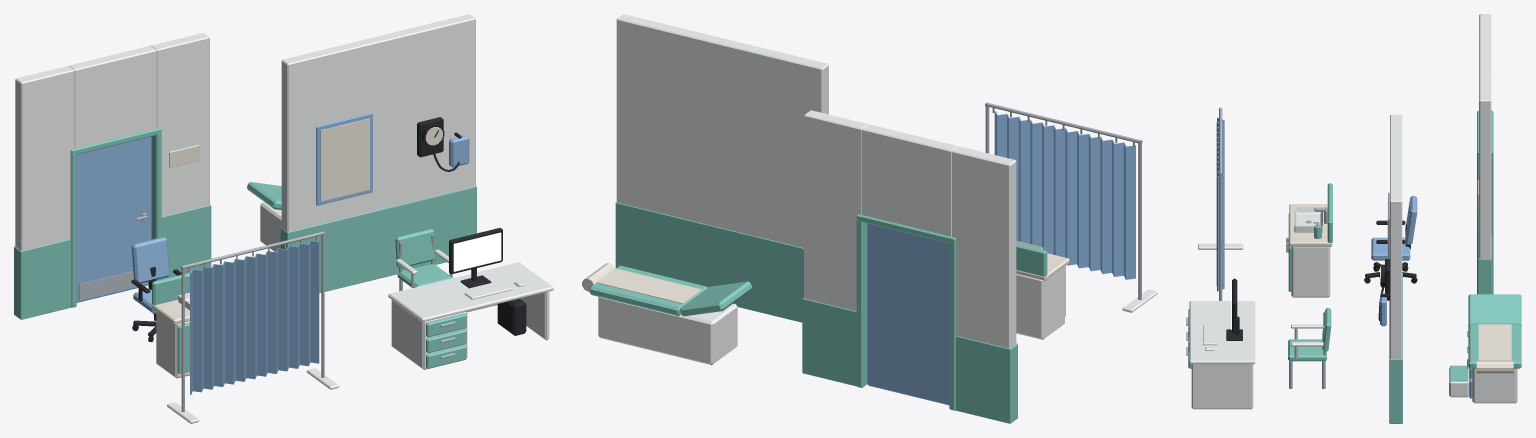
File: doctors-office-set.glb
The picture shows the model from 3 angles, left to right: view 1: azimuth 30°, elevation 25°; view 2: azimuth 150°, elevation 25°; view 3: azimuth 270°, elevation 25°; orthographic projection. The views are drawn at different scales.
Visible parts, largest first — view 1: ChartWall_Wall, Curtain, DoorWall_Left, Door, ChartWall_Wainscot, DoorWall_Right, DoorWall_Lintel, Desk_Top, DoorWall_Wainscot_-1, Chart_Paper, DoorWall_Wainscot_1, Desk_Pedestal (+26 smaller); view 2: ChartWall_Wall, Curtain, Door, ChartWall_Wainscot, DoorWall_Left, DoorWall_Right, DoorWall_Lintel, Exam_Base, DoorWall_Wainscot_-1, DoorWall_Wainscot_1, Sink_Body, DoorFrame_Jamb_1 (+8 smaller); view 3: Desk_Top, ChartWall_Wall, Desk_SidePanel, DoorWall_Right, Sink_Body, Exam_HeadRest, Exam_Base, Exam_Paper, ChartWall_Wainscot, Curtain, Exam_Pad, Sink_Counter (+14 smaller).
Boxes of the visible parts, x1,y1,x2,y2 form: ChartWall_Wall: [281, 14, 475, 231]; Curtain: [188, 236, 319, 394]; DoorWall_Left: [15, 65, 74, 250]; Door: [76, 136, 151, 302]; ChartWall_Wainscot: [280, 186, 476, 293]; DoorWall_Right: [151, 33, 209, 216]; DoorWall_Lintel: [69, 45, 156, 148]; Desk_Top: [388, 262, 553, 322]; DoorWall_Wainscot_-1: [14, 239, 71, 319]; Chart_Paper: [320, 118, 369, 201]; DoorWall_Wainscot_1: [161, 204, 211, 279]; Desk_Pedestal: [391, 300, 467, 369]; ChartWall_Wall: [616, 14, 828, 247]; Curtain: [992, 108, 1135, 279]; Door: [867, 223, 949, 405]; ChartWall_Wainscot: [615, 202, 803, 322]; DoorWall_Left: [952, 146, 1016, 348]; DoorWall_Right: [804, 110, 867, 311]; DoorWall_Lintel: [862, 124, 957, 236]; Exam_Base: [598, 296, 737, 365]; DoorWall_Wainscot_-1: [955, 335, 1017, 423]; DoorWall_Wainscot_1: [802, 298, 866, 387]; Sink_Body: [1016, 266, 1064, 339]; DoorFrame_Jamb_1: [856, 220, 867, 387]; Desk_Top: [1189, 301, 1255, 364]; ChartWall_Wall: [1390, 114, 1402, 359]; Desk_SidePanel: [1191, 364, 1253, 409]; DoorWall_Right: [1479, 76, 1491, 258]; Sink_Body: [1291, 247, 1330, 297]; Exam_HeadRest: [1468, 294, 1521, 326]; Exam_Base: [1472, 368, 1517, 403]; Exam_Paper: [1478, 324, 1511, 360]; ChartWall_Wainscot: [1389, 273, 1402, 423]; Curtain: [1216, 117, 1224, 291]; Exam_Pad: [1468, 325, 1521, 368]; Sink_Counter: [1289, 204, 1332, 246].
Bounding box in the file's own units: 21.66 × 12 × 16.33.
